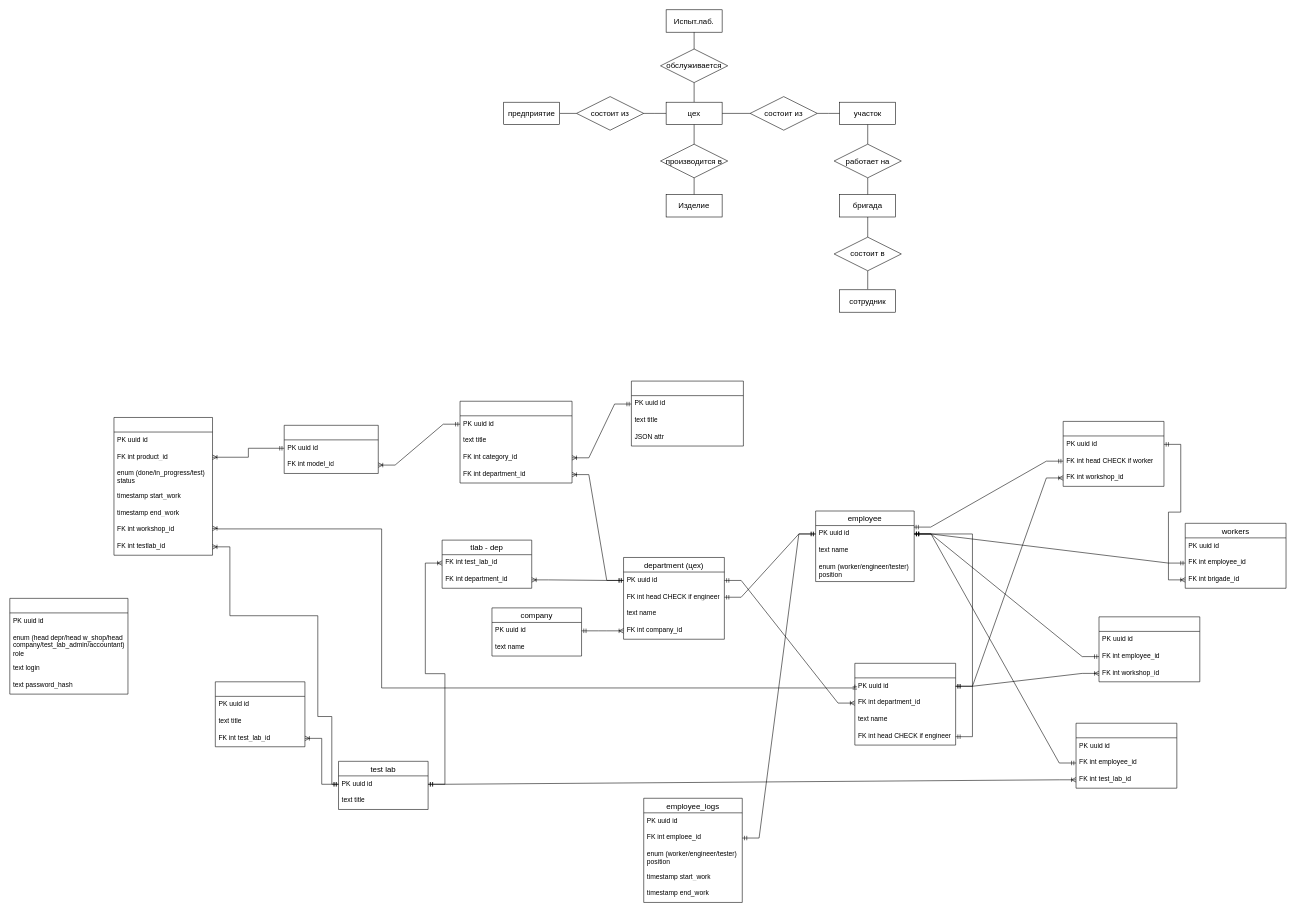
Some shapes in this 1296 by 914 pixel diagram are drawn without their labels. Each missing label, with the box of its shape:
brigade: (1063, 421, 1164, 486)
engineer: (1098, 616, 1200, 682)
product: (284, 425, 378, 473)
product_category: (631, 381, 743, 446)
product_logs: (113, 417, 213, 555)
product_model: (459, 401, 572, 483)
test lab equipment: (215, 681, 305, 747)
testers: (1075, 723, 1177, 788)
users: (9, 598, 128, 694)
workshop (участок): (854, 663, 956, 745)
